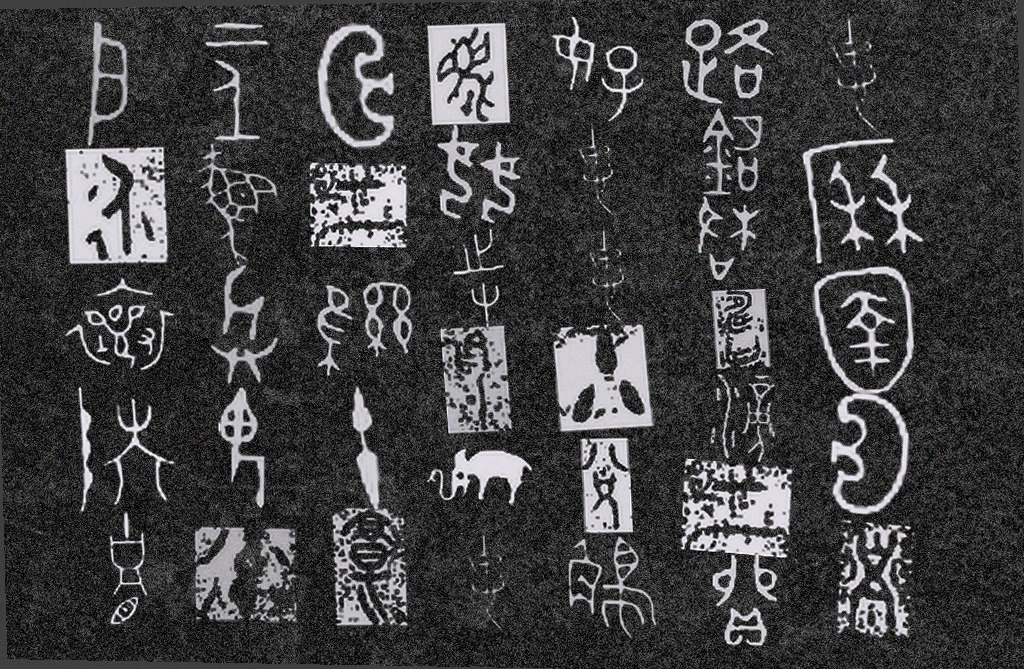char: (798, 134, 928, 267), (810, 262, 920, 401), (61, 143, 174, 268), (74, 384, 179, 518), (547, 319, 657, 436), (310, 17, 401, 155), (825, 387, 918, 522), (676, 458, 800, 559), (60, 275, 180, 375), (189, 522, 303, 627), (829, 518, 921, 644), (195, 140, 282, 270), (548, 13, 647, 126), (563, 532, 662, 645), (328, 504, 413, 632), (311, 279, 417, 379), (424, 19, 514, 131), (305, 159, 411, 251), (201, 17, 276, 147), (206, 261, 282, 389), (677, 13, 778, 107), (434, 122, 524, 227), (439, 322, 516, 437), (828, 8, 887, 142), (423, 444, 539, 509), (214, 384, 272, 512), (709, 553, 782, 651), (80, 18, 134, 150), (705, 372, 780, 465), (694, 192, 766, 283), (449, 226, 509, 332), (699, 105, 767, 198), (577, 435, 636, 539), (707, 285, 775, 374), (105, 509, 151, 631), (465, 526, 512, 639), (345, 380, 384, 515), (584, 221, 631, 330), (574, 120, 621, 222)
